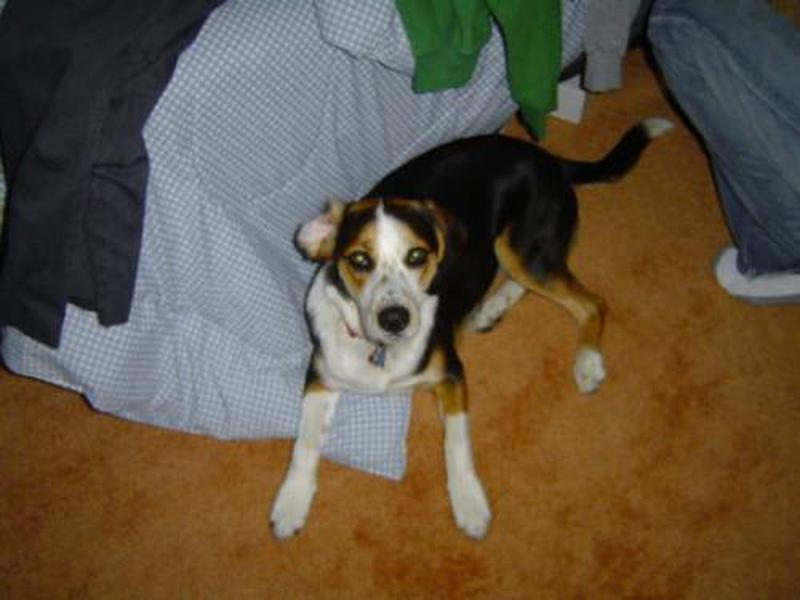dog: (263, 119, 676, 545)
